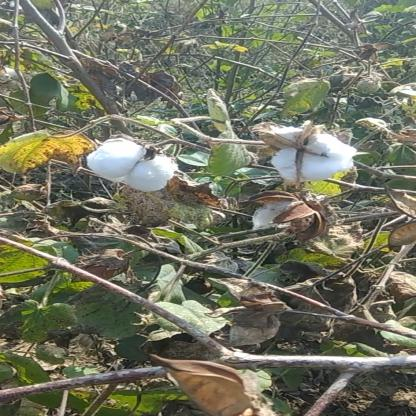cotton_ready: (258, 116, 374, 192), (80, 129, 184, 191)
